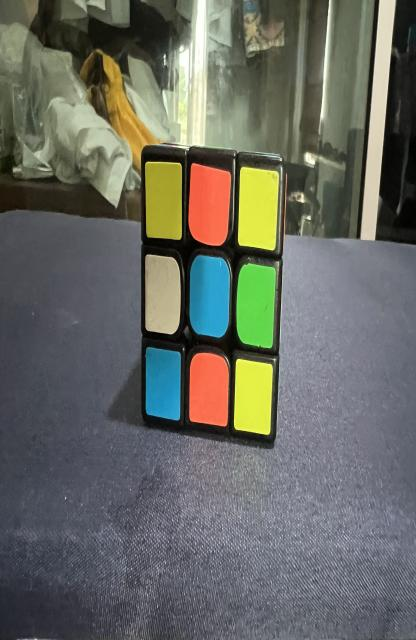Blue: (189, 255, 230, 338), (145, 347, 181, 420)
Green: (236, 263, 275, 348)
Orange: (188, 163, 231, 245), (189, 353, 229, 427)
White: (145, 255, 180, 335)
Yellow: (238, 167, 279, 250), (234, 358, 273, 435), (145, 162, 182, 240)
